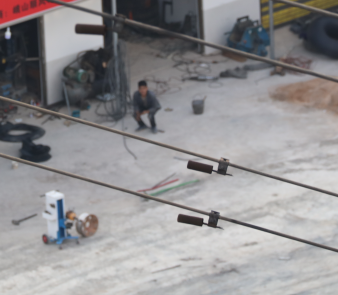damper_defect: (73, 10, 130, 35), (175, 208, 228, 232), (184, 156, 236, 179)
